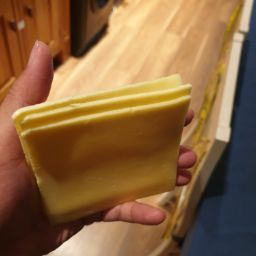Cheddar cheese: (9, 65, 198, 220), (2, 69, 198, 170)
